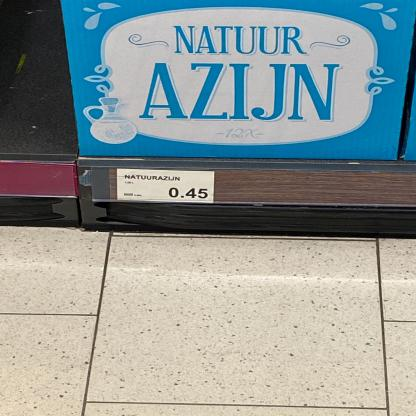prtg: (117, 169, 216, 204)
